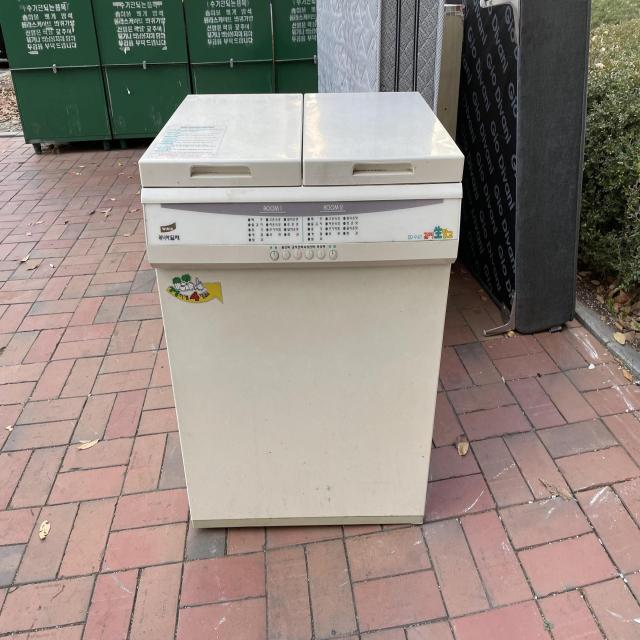refrigerator: (135, 87, 471, 534)
